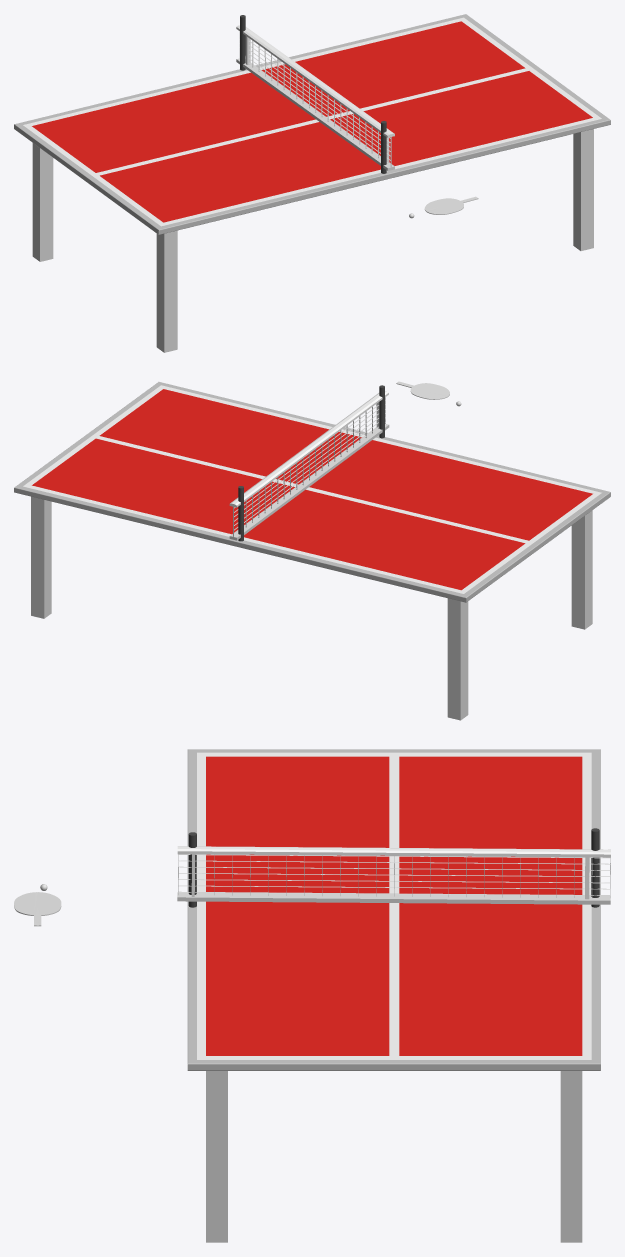
The model's file is MESA DE PI9NG PONG.glb.
3 views of the same model, one above another, from view 1: azimuth 30°, elevation 25°; view 2: azimuth 150°, elevation 25°; view 3: azimuth 270°, elevation 25° (orthographic). The views are drawn at different scales.
Parts seen in each view (by area): view 1: Box001, Box005, Box004, Box002, Cube.002, Cube, Plane.002, fileu, Plane.001, Line004; view 2: Box001, Box002, Box003, Box005, Cube.002, Cube, Plane.002, Plane.001, fileu, Line004; view 3: Box001, Cube.002, Box003, Box004, Cube, Plane.002, Plane.001, fileu, Line004.
Boxes of the visible parts, x1,y1,x2,y2 form: Box001: (14,14,610,234); Box005: (156,230,177,352); Box004: (573,129,593,250); Box002: (32,143,53,261); Cube.002: (236,58,394,170); Cube: (236,25,394,137); Plane.002: (290,68,340,128); fileu: (340,104,391,166); Plane.001: (239,31,289,92); Line004: (424,196,478,214); Box001: (14,382,610,602); Box002: (447,598,468,720); Box003: (31,496,51,618); Box005: (571,510,592,629); Cube.002: (229,424,389,540); Cube: (229,391,388,507); Plane.002: (284,435,335,496); Plane.001: (233,473,284,536); fileu: (335,397,385,459); Line004: (396,381,449,399); Box001: (187,749,600,1070); Cube.002: (177,892,610,904); Box003: (560,1071,582,1242); Box004: (206,1071,227,1242); Cube: (177,846,610,857); Plane.002: (322,855,466,896); Plane.001: (466,856,610,897); fileu: (178,854,322,895); Line004: (14,892,61,926).
Bounding box in the file's own units: 2.74 × 1.07 × 2.2.
